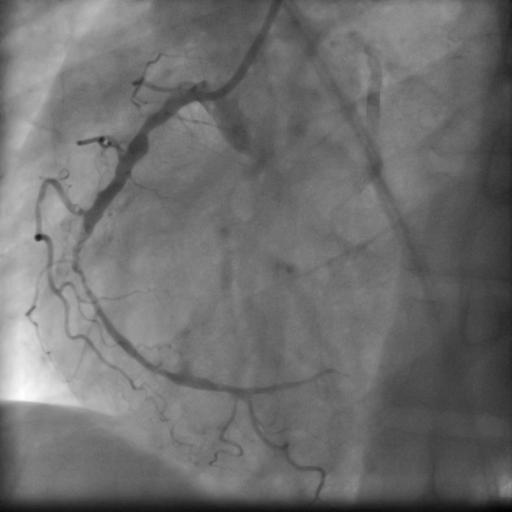Stenosis: (137, 111, 160, 139)
